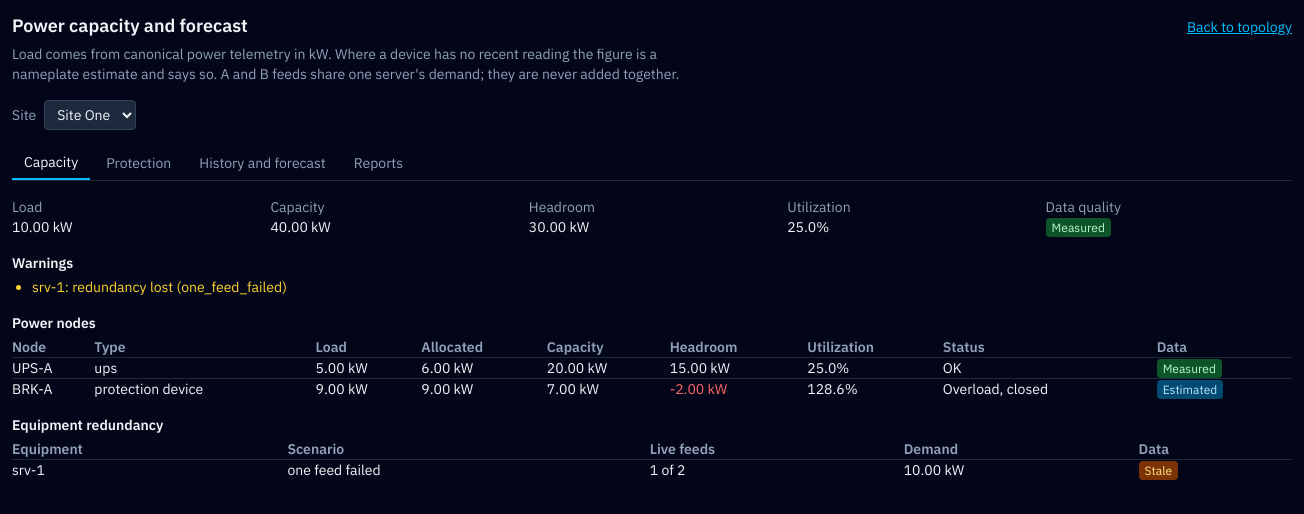
Scenario: PowerAnalyticsPage › explains why there is no forecast and lists the inputs
Click the tab "History and forecast". click: (263, 163)
box: [187,146,338,180]
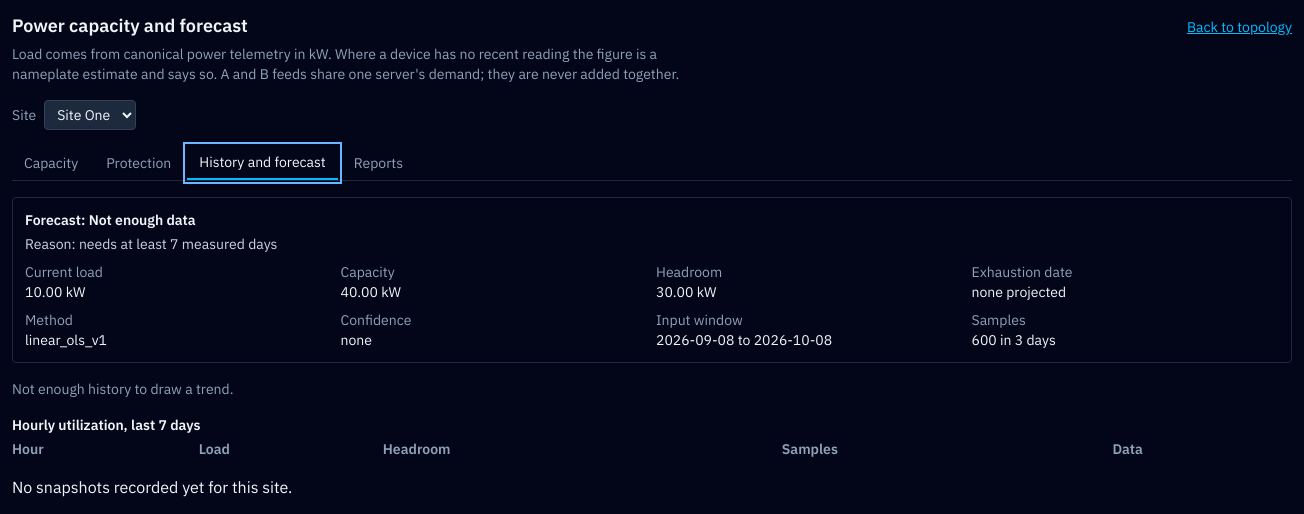
Expected: the text with test id "forecast-status" reads "Not enough data", [89,211,196,229]
Expected: the text "Reason: needs at least 7 measured days" is shown, [25,235,277,253]
Expected: the text "linear_ols_v1" is shown, [25,331,107,349]
